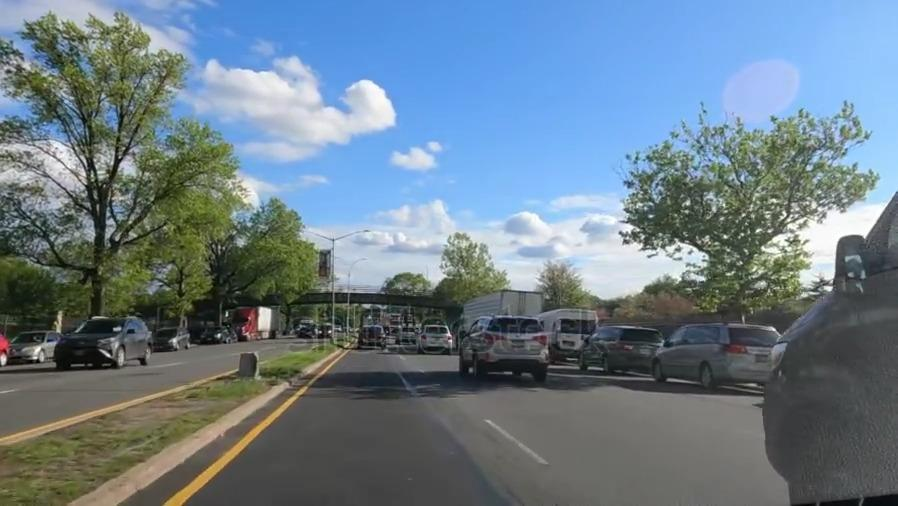car: (669, 322, 764, 384), (464, 316, 544, 377), (59, 318, 157, 366), (589, 326, 655, 369), (158, 320, 197, 352), (417, 324, 449, 353), (356, 323, 388, 351), (203, 323, 227, 343)
van: (537, 307, 589, 359)
wheel: (789, 412, 859, 506)
